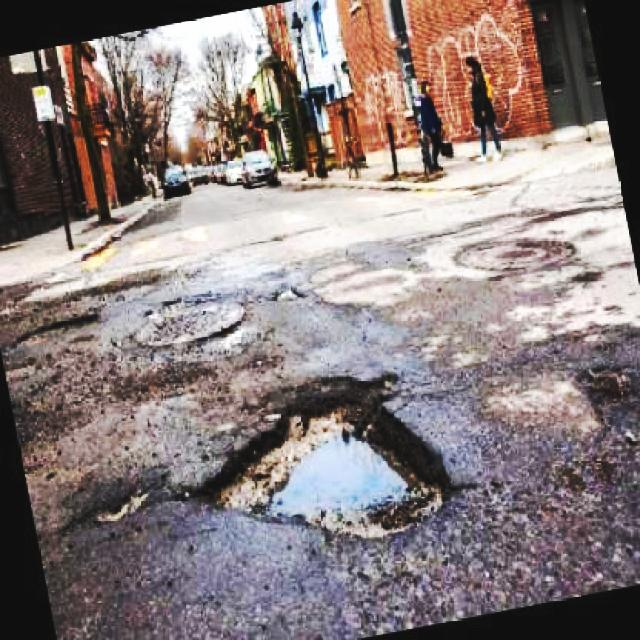pothole: (183, 364, 455, 538), (128, 297, 249, 351), (66, 477, 166, 534), (9, 308, 105, 360), (583, 360, 640, 422)
